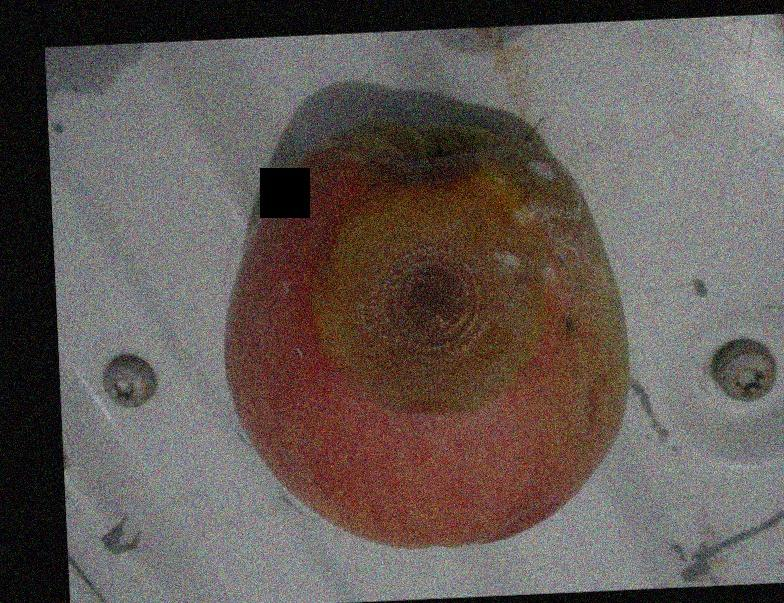rotten apple: (223, 112, 630, 551)
